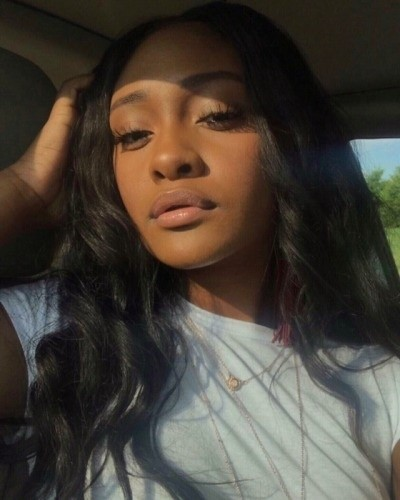face_no_mask: (98, 11, 311, 286)
